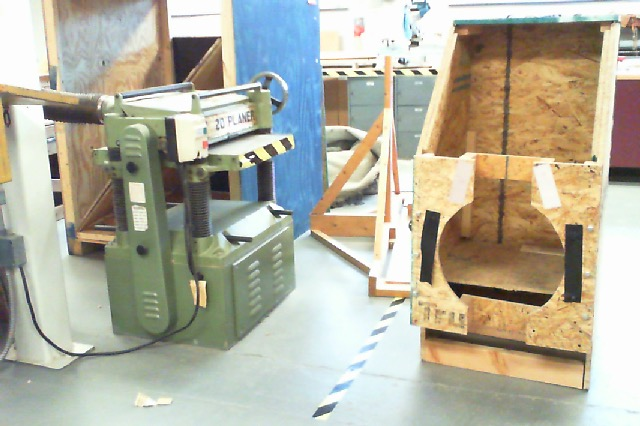Tape: (532, 162, 561, 210), (447, 159, 472, 206)
